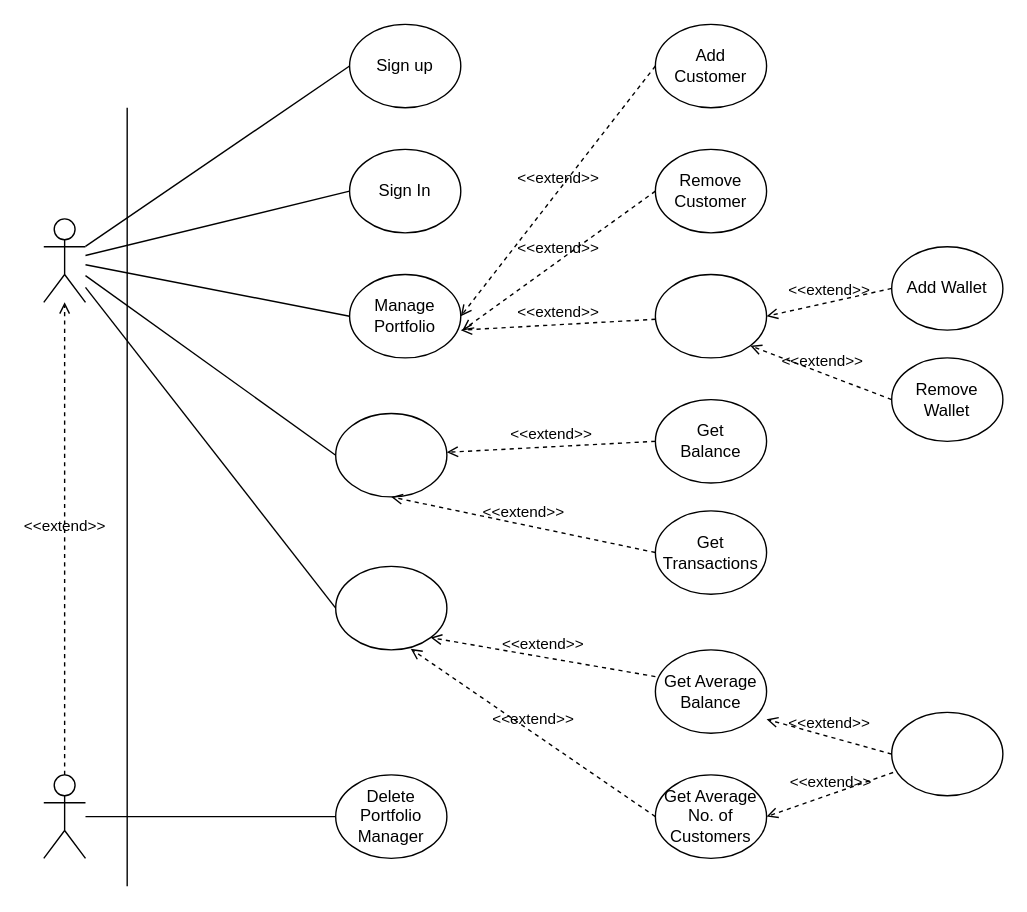
Some shapes in this 1027 by 912 pixel diagram are drawn without their labels. The centre of each missing label's shape, as x and y in pixels:
Admin: (x=63, y=816)
Analyze Portfolio: (x=390, y=454)
Manage Wallet: (x=710, y=315)
Portfolio Manager: (x=63, y=260)
Relate to Portfolio Manager: (x=946, y=753)
View Company Performance: (x=390, y=607)
